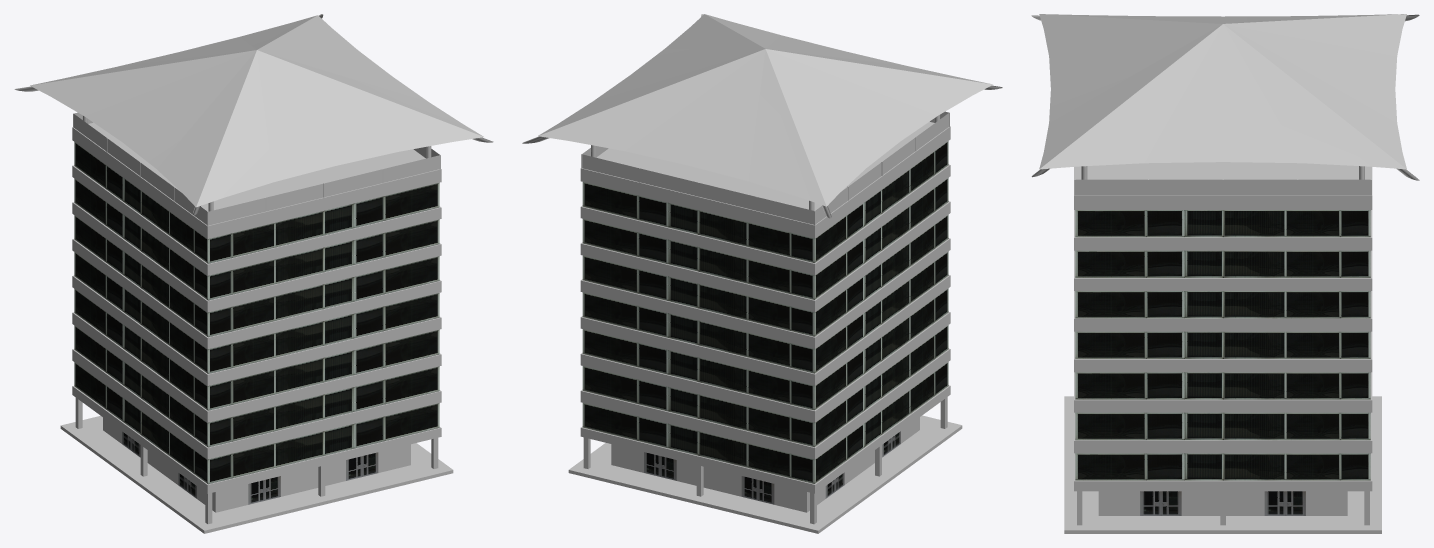
File: Building-G-04.obj
The picture shows the model from 3 angles, left to right: view 1: azimuth 30°, elevation 25°; view 2: azimuth 150°, elevation 25°; view 3: azimuth 270°, elevation 25°; orthographic projection. The views are drawn at different scales.
Visible parts, largest first — view 1: Building-G-04; view 2: Building-G-04; view 3: Building-G-04.
Part boxes in pixels (bbox=[...]): Building-G-04: bbox=[14, 14, 493, 533]; Building-G-04: bbox=[522, 14, 1002, 533]; Building-G-04: bbox=[1031, 14, 1419, 533].
Size of the model in its own units: 26.37 by 32.75 by 26.06.
